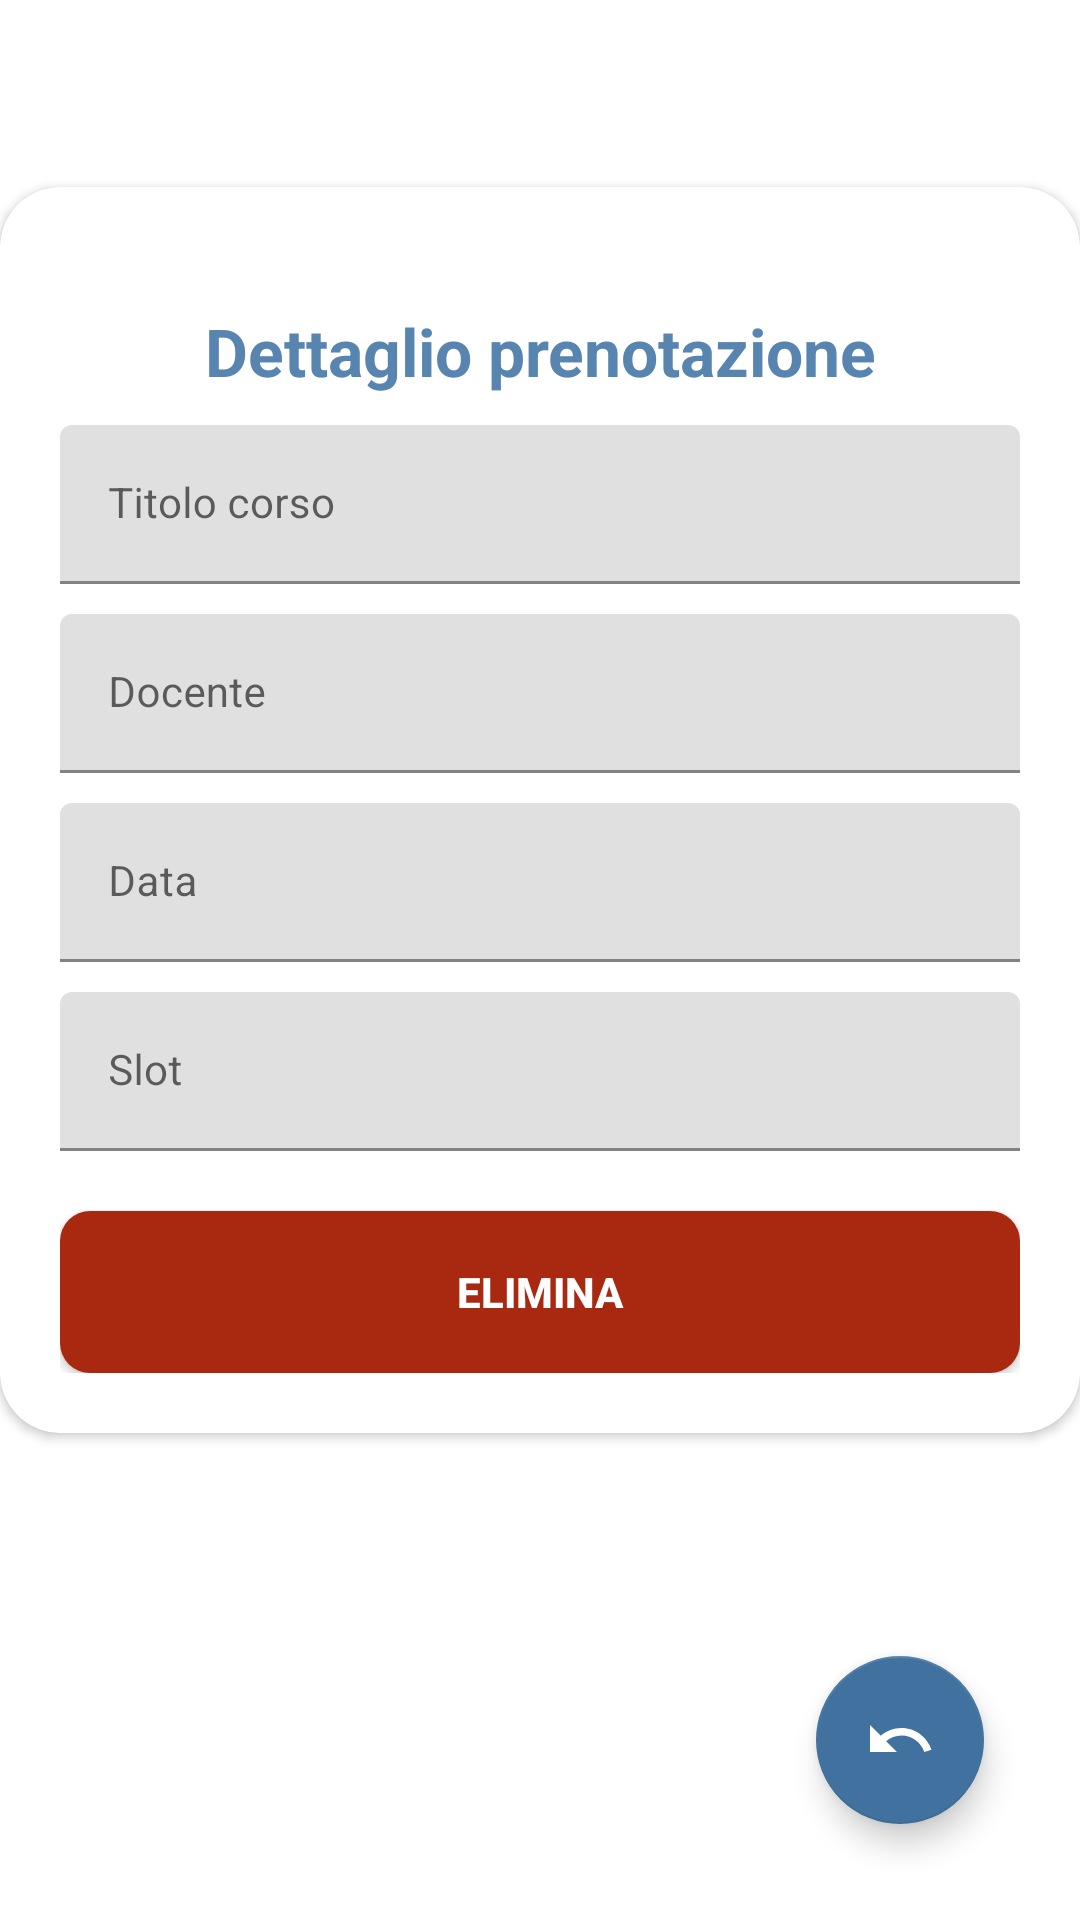

Icon bounding boxes for this 1080px x 1920px phone screenshot, format {"x1": x1, "y1": y1, "x2": x2, "y2": y2}:
back: {"x1": 816, "y1": 1656, "x2": 984, "y2": 1824}
